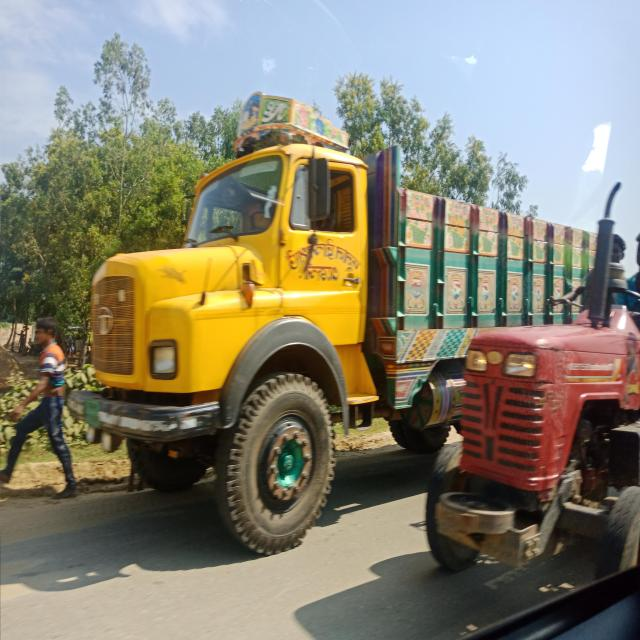truck: (41, 81, 438, 551), (431, 251, 640, 590)
